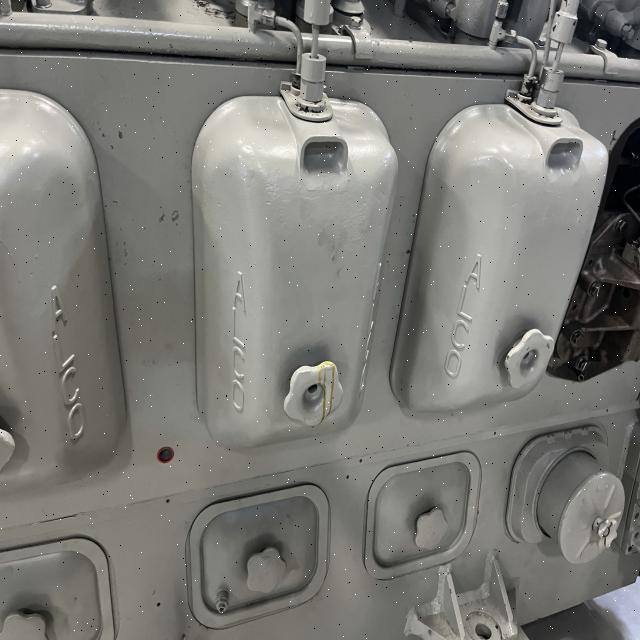Oil Leak: (316, 360, 341, 422)
